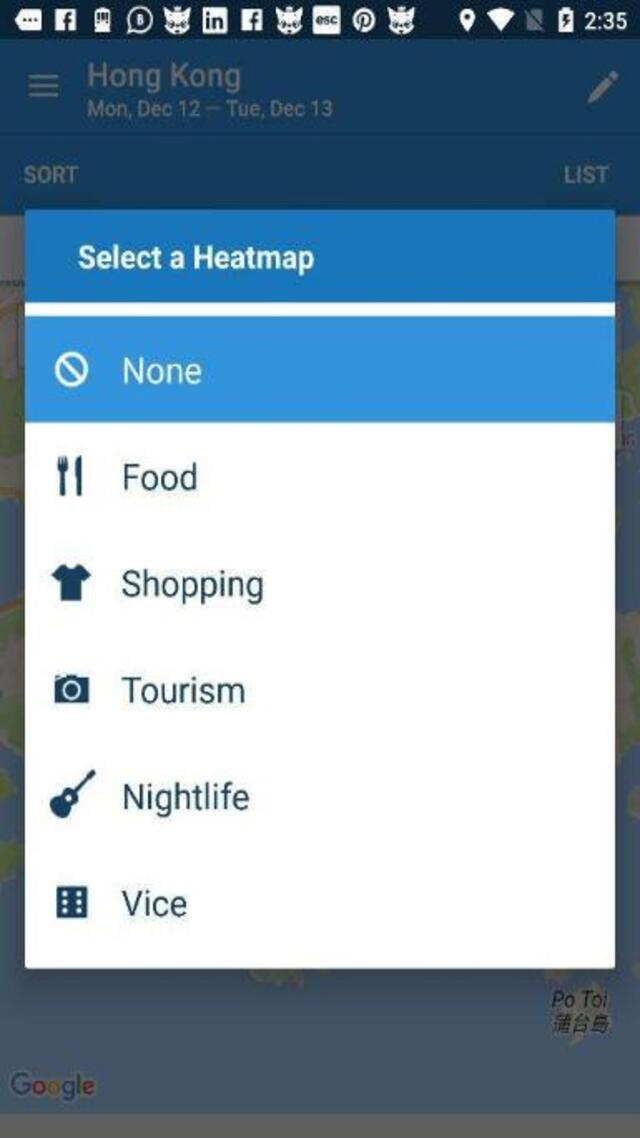Icon: (49, 769, 97, 817), (52, 562, 90, 598), (56, 351, 88, 388), (56, 455, 84, 494), (586, 70, 618, 104), (53, 674, 90, 702), (56, 886, 88, 918), (27, 73, 59, 98)
Text: (78, 244, 312, 274), (88, 99, 331, 120), (123, 569, 263, 605), (88, 62, 241, 94), (123, 778, 249, 814), (122, 675, 245, 705), (123, 356, 203, 384), (123, 462, 196, 491), (120, 887, 186, 916), (24, 164, 79, 184), (562, 166, 608, 184)
